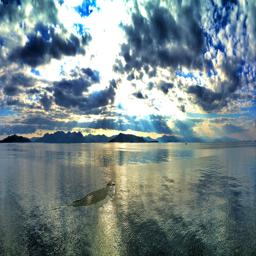Cuckoo: (48, 181, 115, 212)
